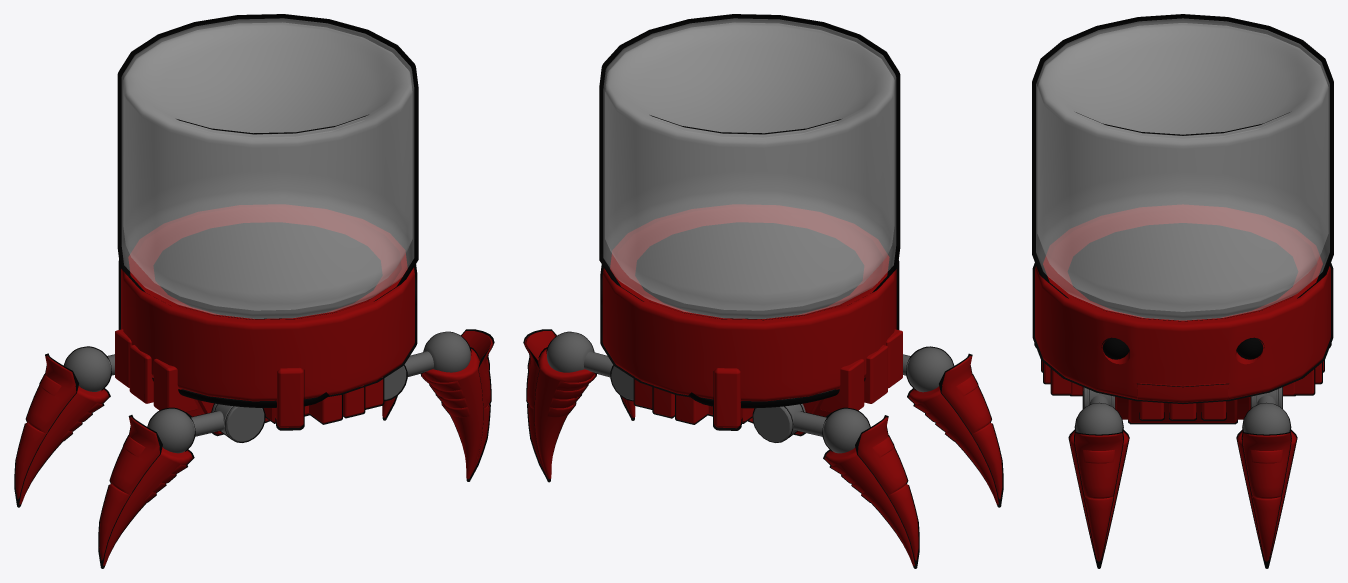
The model's file is FishBot.fbx.
3 views of the same model, side by side, from view 1: azimuth 30°, elevation 25°; view 2: azimuth 150°, elevation 25°; view 3: azimuth 270°, elevation 25° (orthographic).
Visible parts, largest first — view 1: pCylinder15, pCylinder17, pCylinder16, polySurface7, polySurface32, polySurface30, polySurface14, polySurface18, polySurface23, polySurface47, polySurface16, polySurface60 (+8 smaller); view 2: pCylinder15, pCylinder17, pCylinder16, polySurface7, polySurface32, polySurface30, polySurface28, polySurface16, polySurface21, polySurface46, polySurface18, polySurface61 (+8 smaller); view 3: pCylinder15, pCylinder17, pCylinder16, polySurface7, polySurface28, polySurface14, polySurface23, polySurface21, polySurface8, polySurface26, pCube5, polySurface29 (+7 smaller).
Part boxes in pixels (left/top/right/bottom): pCylinder15: left=122, top=18, right=413, bottom=318; pCylinder17: left=117, top=14, right=418, bottom=318; pCylinder16: left=123, top=22, right=412, bottom=310; polySurface7: left=121, top=204, right=414, bottom=401; polySurface32: left=15, top=355, right=108, bottom=504; polySurface30: left=99, top=417, right=192, bottom=565; polySurface14: left=421, top=331, right=493, bottom=479; polySurface18: left=148, top=403, right=264, bottom=453; polySurface23: left=384, top=332, right=470, bottom=399; polySurface47: left=275, top=368, right=303, bottom=427; polySurface16: left=64, top=347, right=114, bottom=391; polySurface60: left=153, top=358, right=197, bottom=412; pCylinder15: left=603, top=18, right=895, bottom=318; pCylinder17: left=599, top=14, right=900, bottom=319; pCylinder16: left=605, top=23, right=894, bottom=310; polySurface7: left=602, top=204, right=896, bottom=401; polySurface32: left=824, top=417, right=918, bottom=565; polySurface30: left=908, top=355, right=1002, bottom=504; polySurface28: left=524, top=331, right=595, bottom=479; polySurface16: left=753, top=404, right=869, bottom=453; polySurface21: left=547, top=332, right=633, bottom=400; polySurface46: left=714, top=368, right=741, bottom=428; polySurface18: left=903, top=347, right=953, bottom=392; polySurface61: left=820, top=359, right=864, bottom=412; pCylinder15: left=1036, top=18, right=1329, bottom=320; pCylinder17: left=1032, top=14, right=1333, bottom=320; pCylinder16: left=1037, top=23, right=1328, bottom=311; polySurface7: left=1035, top=204, right=1330, bottom=399; polySurface28: left=1237, top=431, right=1296, bottom=561; polySurface14: left=1069, top=431, right=1128, bottom=561; polySurface23: left=1075, top=387, right=1122, bottom=434; polySurface21: left=1243, top=387, right=1290, bottom=434; polySurface8: left=1137, top=383, right=1228, bottom=402; polySurface26: left=1032, top=263, right=1333, bottom=403; pCube5: left=1071, top=382, right=1294, bottom=422; polySurface29: left=1236, top=429, right=1297, bottom=568.
Bounding box in the file's own units: 9.1 × 9.21 × 6.07.
